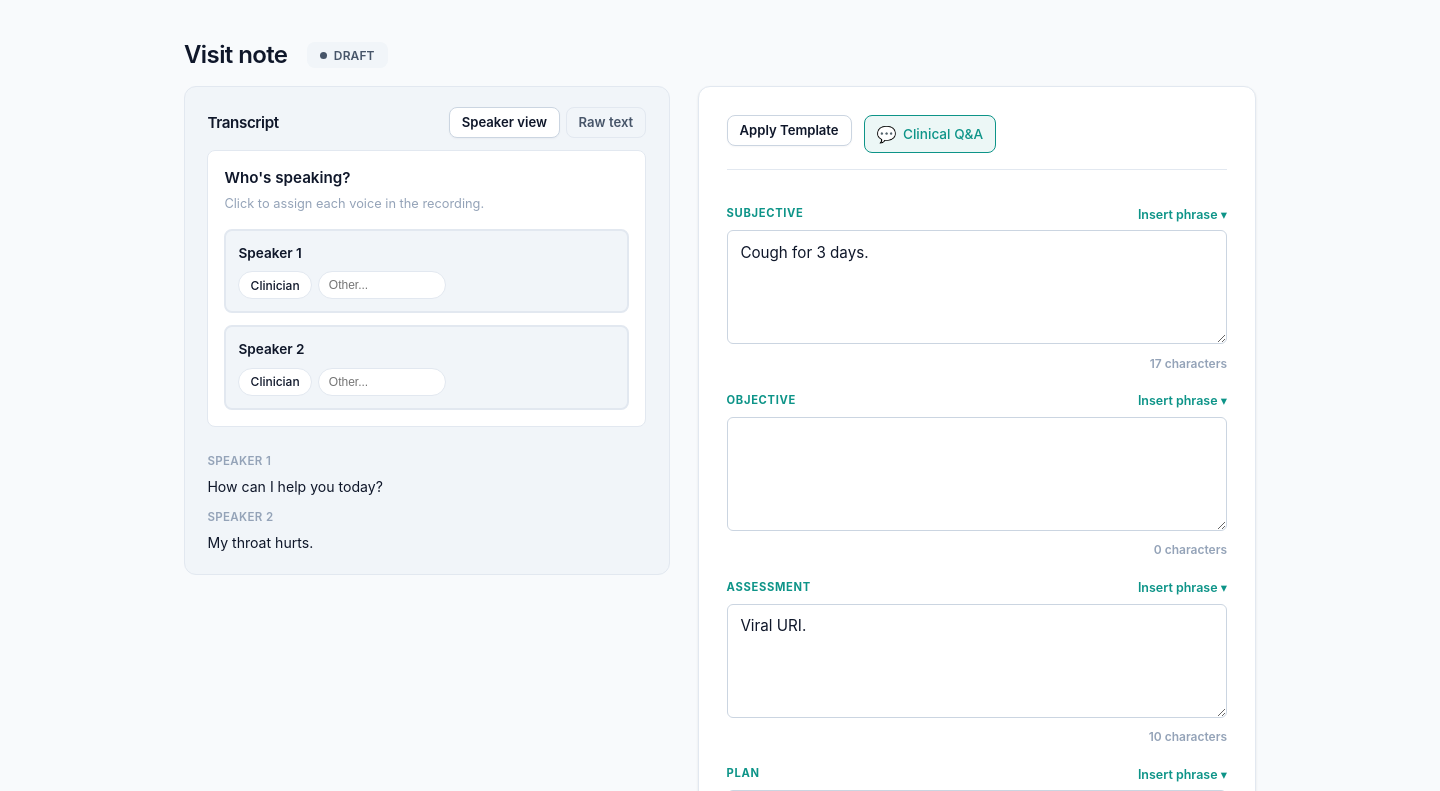
Test case: NoteReview › defaults to speaker view when diarized segments exist, and can toggle to raw text
Expected: the text box showing "Cough for 3 days." below "subjective" is shown, [727, 230, 1227, 344]
Expected: the text "How can I help you today?" is shown, [207, 478, 383, 495]
Click the button "Raw text".
click(606, 122)  # box [566, 107, 646, 138]
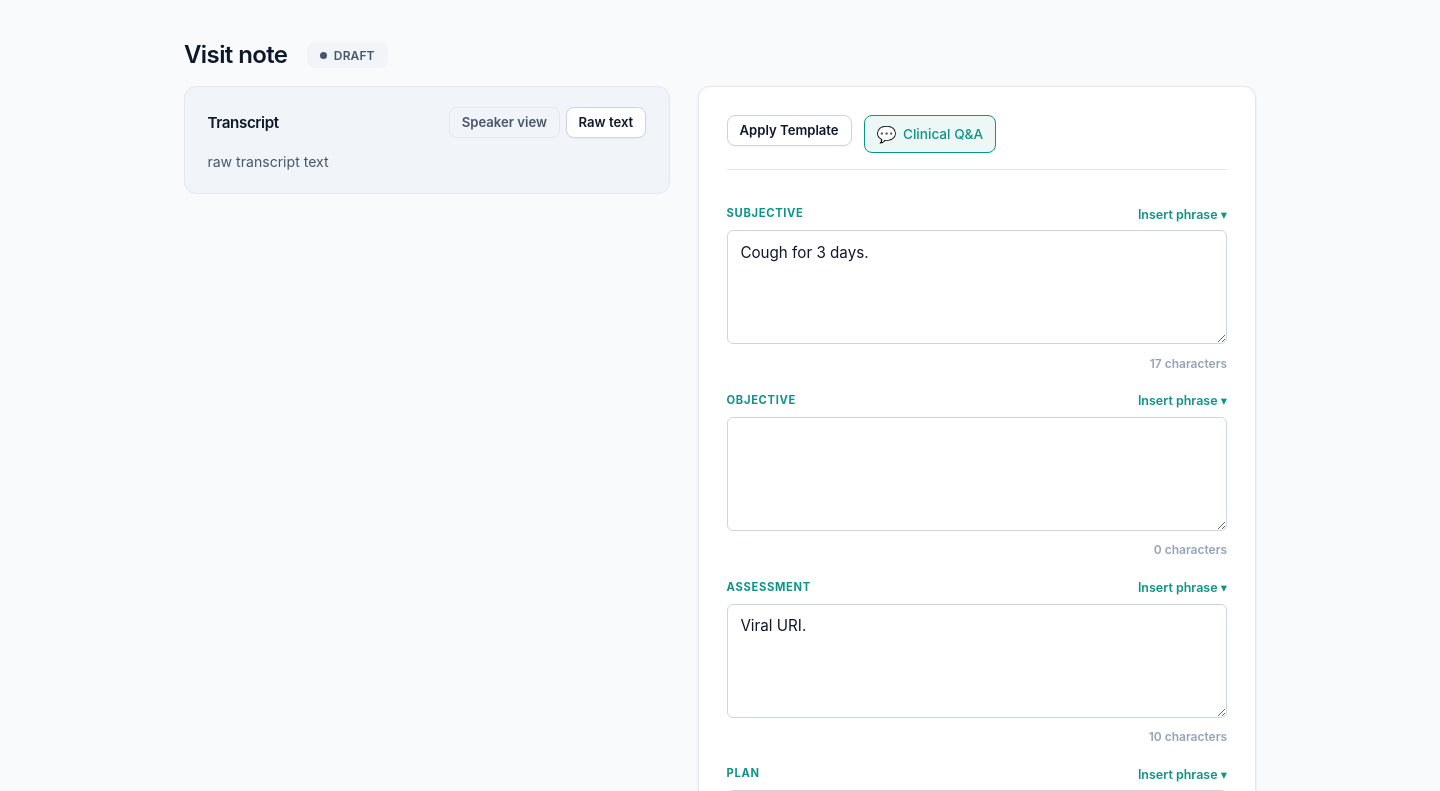
Result: the text "raw transcript text" is shown at [207, 153, 329, 170]
Result: the text "My throat hurts." is gone
